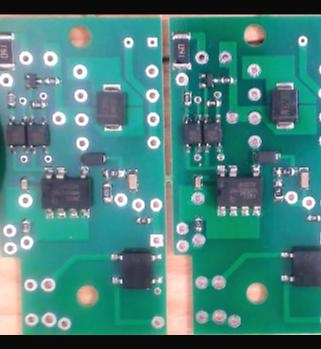chip-capacitor: (127, 167, 139, 194), (298, 165, 310, 191), (18, 176, 29, 193), (193, 174, 203, 191)
chip-resistor: (170, 29, 193, 71), (0, 30, 15, 71), (100, 180, 113, 205), (101, 167, 127, 179), (272, 165, 298, 176), (272, 177, 283, 203), (7, 90, 17, 109), (182, 90, 193, 107), (29, 99, 49, 108), (134, 215, 152, 225), (204, 98, 222, 108), (193, 214, 203, 232), (20, 217, 30, 234), (219, 75, 236, 85), (43, 77, 61, 86), (305, 213, 321, 222)
diode: (94, 83, 127, 132), (268, 81, 299, 131), (250, 149, 282, 164), (79, 151, 108, 167)
ic: (40, 165, 92, 220), (214, 164, 263, 219), (108, 248, 164, 290), (278, 247, 321, 287), (5, 115, 28, 155), (27, 115, 50, 155), (182, 113, 202, 153), (203, 114, 223, 153)
transistor: (198, 72, 219, 89), (23, 73, 43, 90)
